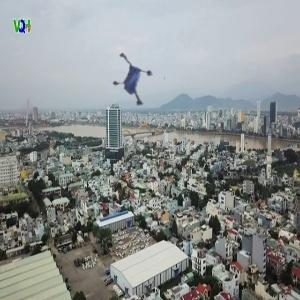drone: (108, 56, 170, 118)
